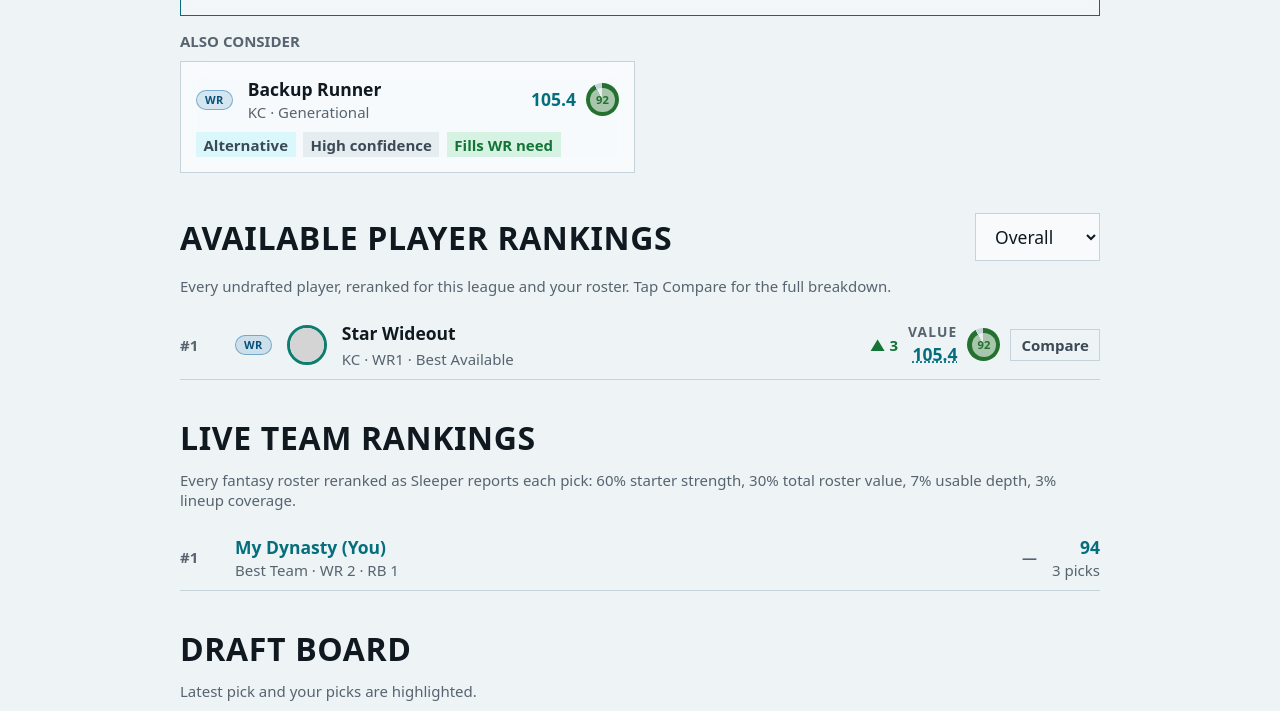
Scenario: LiveDraftContent › reveals the score breakdown on tap, hidden before
The image size is (1280, 711).
(page scrolled)
Check: the text "Scarcity" is not shown
Click the button named "Score breakdown": (935, 354) [912,342,958,367]
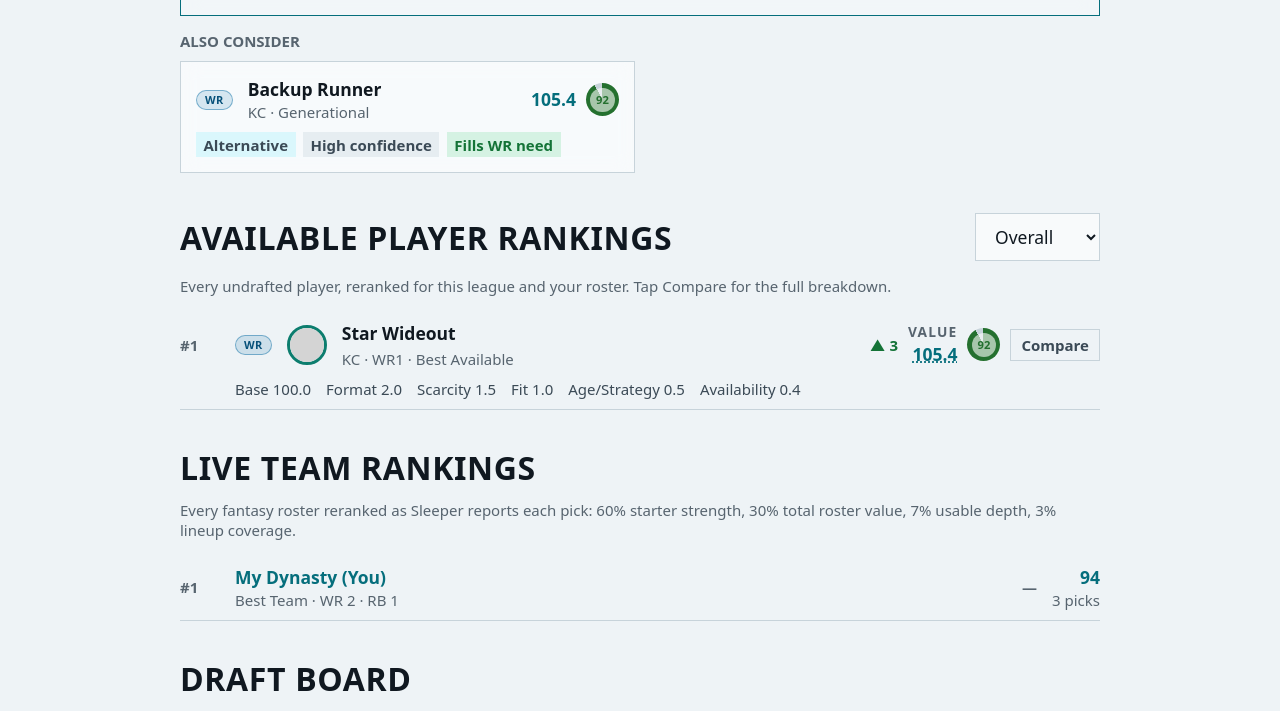
Check: the text "Scarcity 1.5" is shown, box [417,379,496,399]
Check: the text "Fit 1.0" is shown, box [511,379,553,399]
